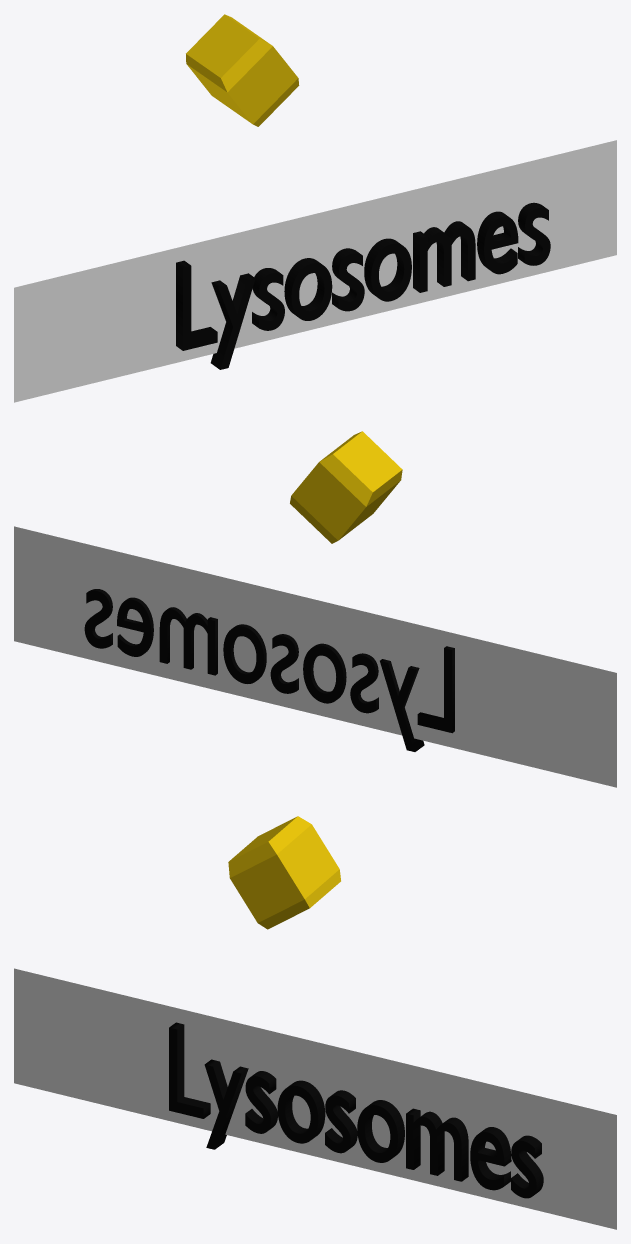
File: lysosomes.gltf
3 renders of one model, top to bottom at view 1: azimuth 30°, elevation 25°; view 2: azimuth 150°, elevation 25°; view 3: azimuth 330°, elevation 25°, orthographic.
Visible parts, largest first — view 1: Plane.030, Text.027, Cube.007; view 2: Plane.030, Text.027, Cube.007; view 3: Plane.030, Text.027, Cube.007.
Boxes of the visible parts, box(x1,y1,x2,y2) form: Plane.030: box(14, 140, 616, 402); Text.027: box(176, 202, 550, 369); Cube.007: box(186, 14, 299, 126); Plane.030: box(14, 526, 616, 787); Text.027: box(84, 589, 454, 751); Cube.007: box(290, 431, 402, 543); Plane.030: box(14, 968, 616, 1229); Text.027: box(169, 1022, 543, 1198); Cube.007: box(228, 816, 340, 929).
Bounding box in the file's own units: 1.33 × 0.6591 × 0.1851.
